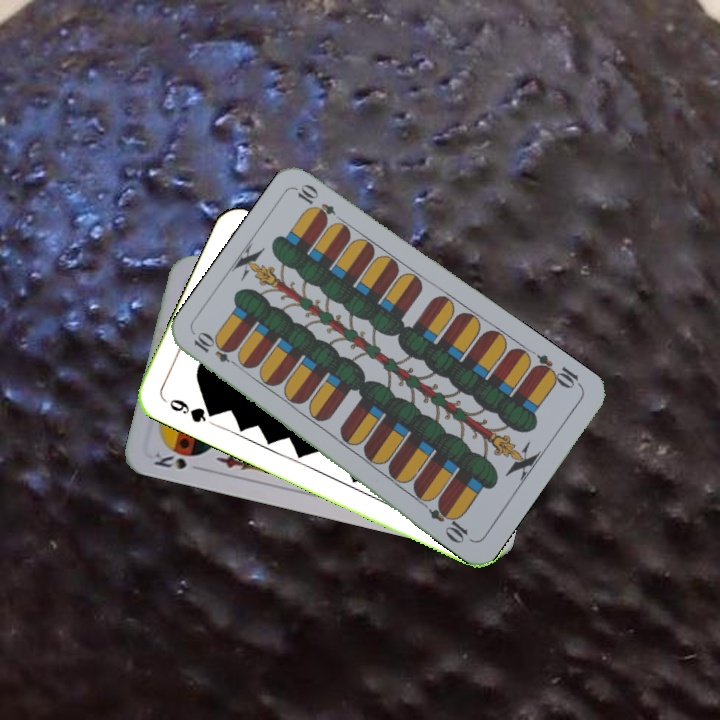E10: (528, 350, 585, 392), (189, 329, 244, 371)
G9: (160, 394, 219, 425)
SK: (150, 447, 206, 474)
